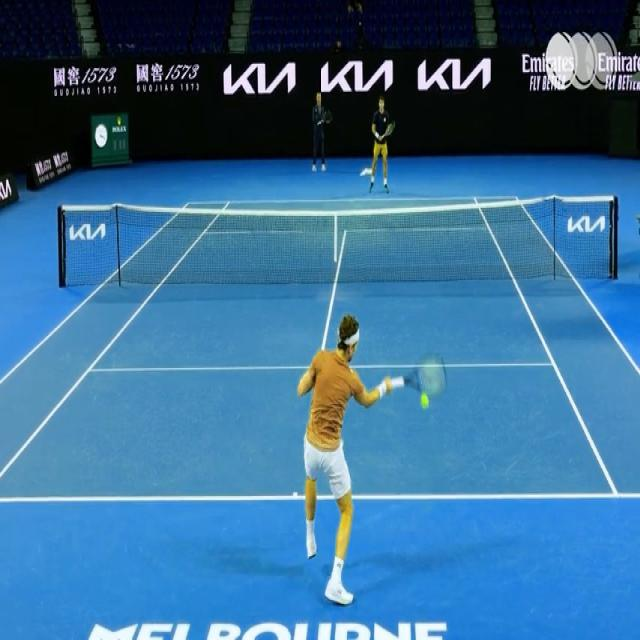forehand-stroke: (290, 314, 448, 608)
